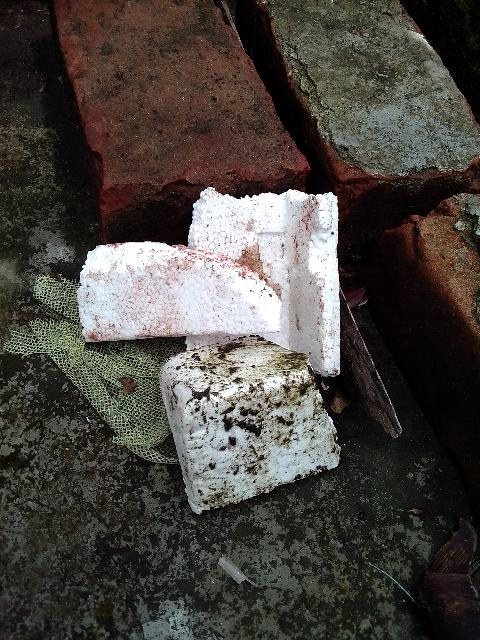cocksheet: (153, 177, 377, 529)
